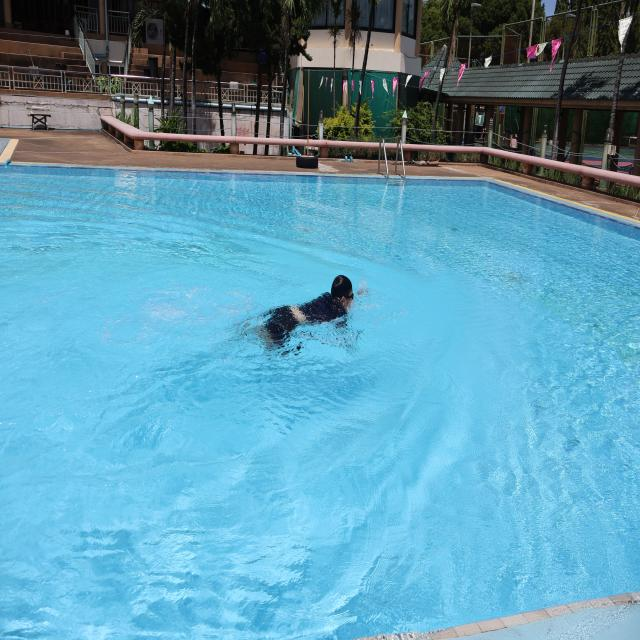Swimming: (255, 272, 379, 361)
